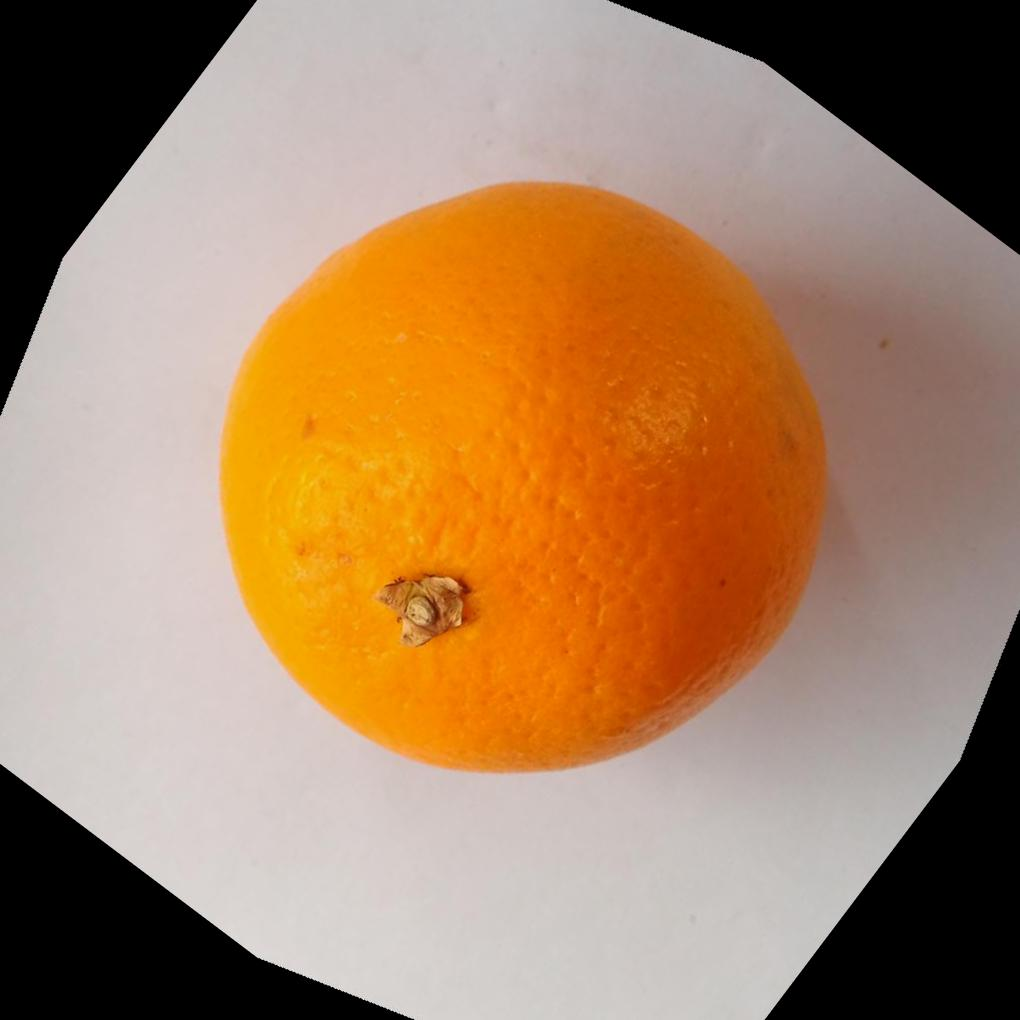FreshGuava: (212, 176, 828, 773)
